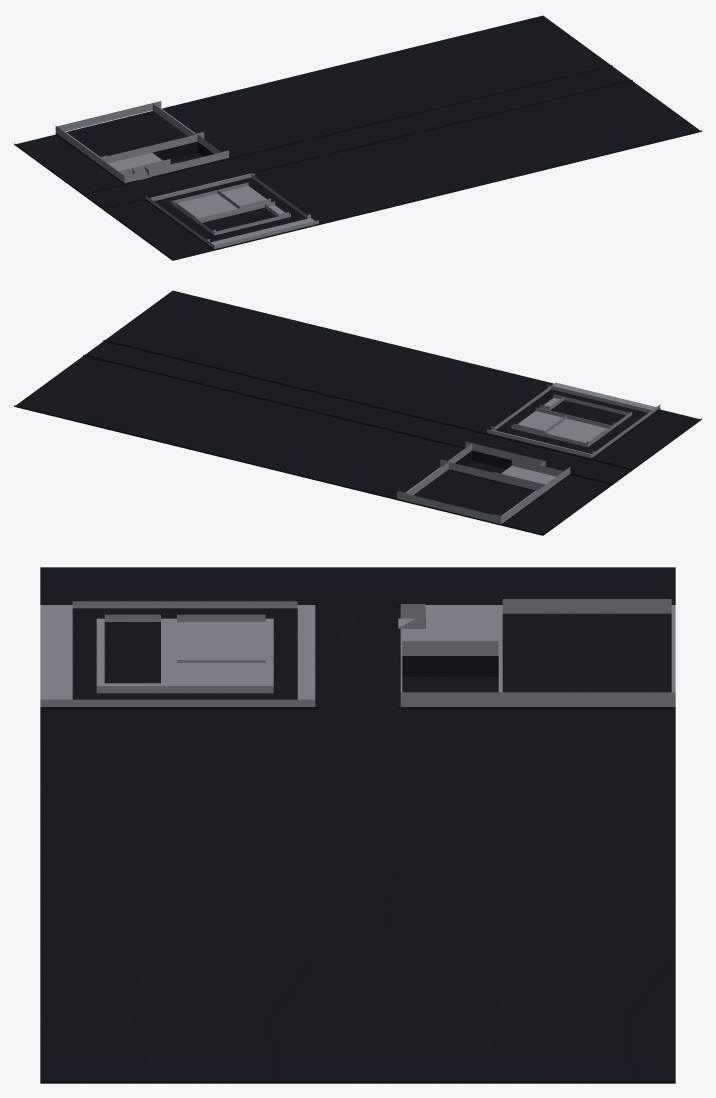
File: tt_struct_f1_slab.glb
3 views of the same model, one above another, from view 1: azimuth 30°, elevation 25°; view 2: azimuth 150°, elevation 25°; view 3: azimuth 270°, elevation 25° (orthographic). The views are drawn at different scales.
Parts seen in each view (by area): view 1: Slab_F1, Deck_N_+1.0, Deck_S_+2.0; view 2: Slab_F1, Deck_N_+1.0, Deck_S_+2.0; view 3: Slab_F1, Deck_N_+1.0, Deck_S_+2.0.
Boxes of the visible parts, x1,y1,x2,y2 form: Slab_F1: (14, 15, 701, 260); Deck_N_+1.0: (145, 173, 318, 249); Deck_S_+2.0: (55, 101, 228, 183); Slab_F1: (14, 290, 701, 535); Deck_N_+1.0: (487, 382, 660, 458); Deck_S_+2.0: (397, 441, 570, 524); Slab_F1: (40, 567, 675, 1083); Deck_N_+1.0: (40, 601, 315, 706); Deck_S_+2.0: (398, 599, 675, 706).
Size of what is drawn, in the model's own units: 152 by 4.9 by 79.
Materials: 2 (1 with a texture image).
